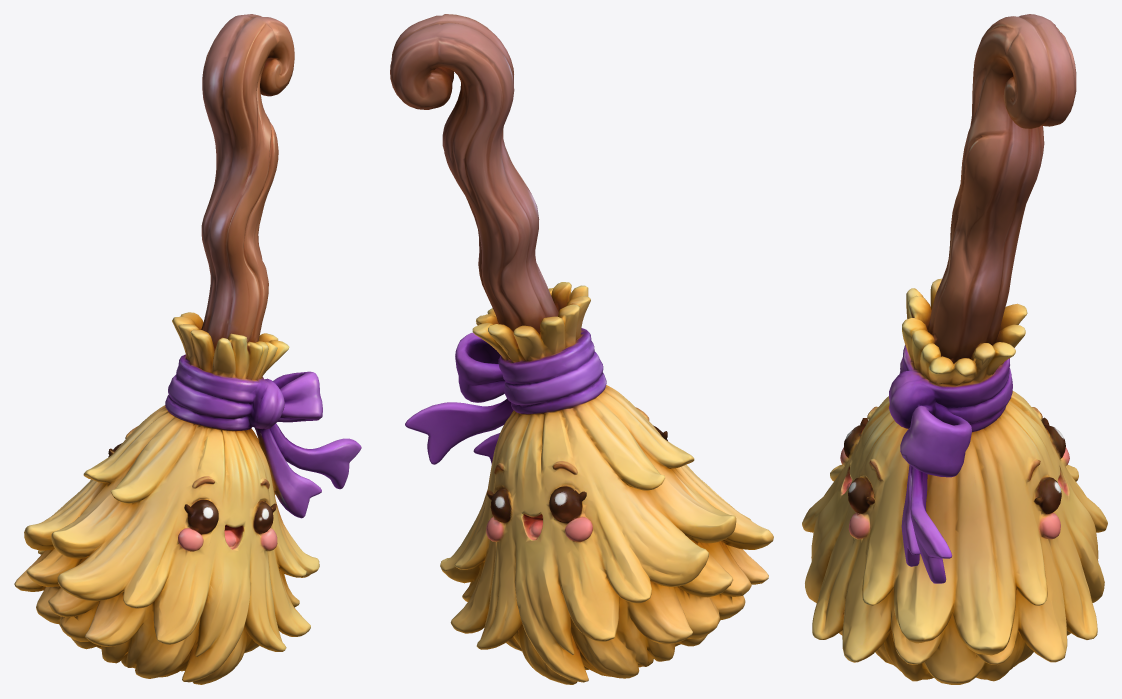
File: broom.glb
The picture shows the model from 3 angles, left to right: view 1: azimuth 30°, elevation 25°; view 2: azimuth 150°, elevation 25°; view 3: azimuth 270°, elevation 25°; orthographic projection. The views are drawn at different scales.
Visible parts, largest first — view 1: tripo_node_f26939d9-85f9-4f72-90a2-54ad898c88ca; view 2: tripo_node_f26939d9-85f9-4f72-90a2-54ad898c88ca; view 3: tripo_node_f26939d9-85f9-4f72-90a2-54ad898c88ca.
Part boxes in pixels (left/top/right/bottom): tripo_node_f26939d9-85f9-4f72-90a2-54ad898c88ca: left=14, top=14, right=361, bottom=684; tripo_node_f26939d9-85f9-4f72-90a2-54ad898c88ca: left=390, top=14, right=773, bottom=684; tripo_node_f26939d9-85f9-4f72-90a2-54ad898c88ca: left=802, top=14, right=1107, bottom=684.
Size of the model in its own units: 0.5677 by 1 by 0.3987.
1 material, 1 textured.
